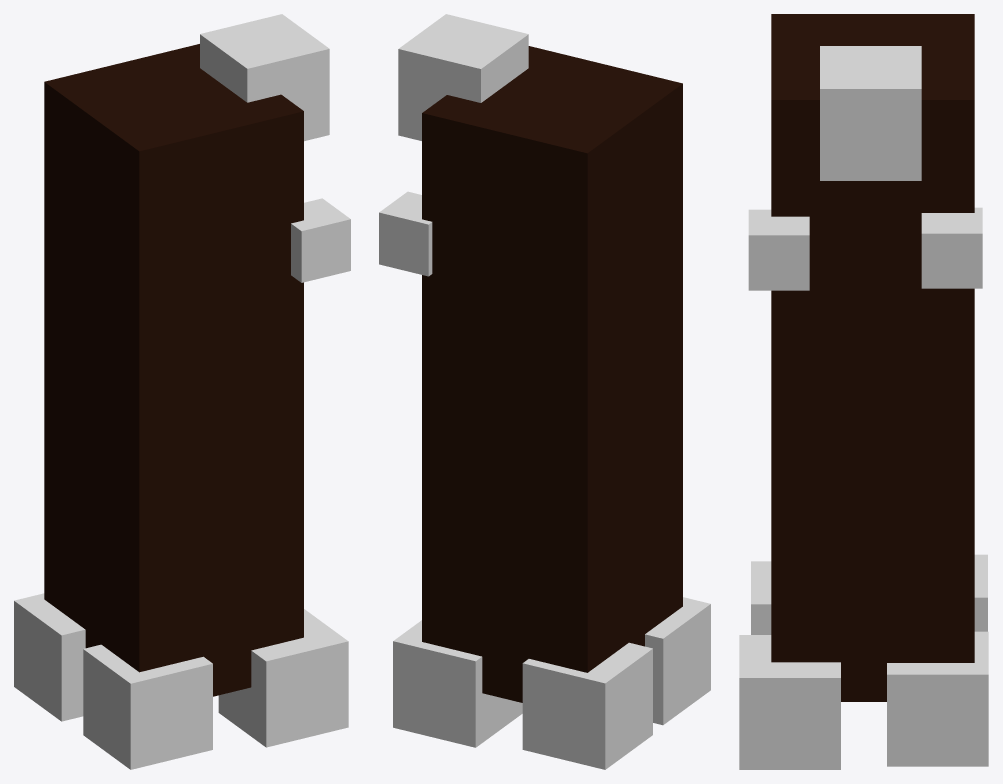
File: big.dae
The picture shows the model from 3 angles, left to right: view 1: azimuth 30°, elevation 25°; view 2: azimuth 150°, elevation 25°; view 3: azimuth 270°, elevation 25°; orthographic projection. The views are drawn at different scales.
Parts seen in each view (by area): view 1: Cube, Cube.005, Cube.002, Cube.001, Cube.004, Cube.007; view 2: Cube, Cube.004, Cube.001, Cube.003, Cube.005, Cube.006; view 3: Cube, Cube.001, Cube.002, Cube.003, Cube.007, Cube.006, Cube.005, Cube.004.
Part boxes in pixels (x1,y1,x2,y2): Cube: [44, 44, 303, 696]; Cube.005: [83, 644, 212, 769]; Cube.002: [218, 609, 348, 747]; Cube.001: [200, 14, 329, 141]; Cube.004: [14, 593, 85, 721]; Cube.007: [291, 198, 350, 282]; Cube: [422, 46, 682, 702]; Cube.004: [522, 642, 652, 769]; Cube.001: [398, 14, 528, 140]; Cube.003: [393, 620, 522, 747]; Cube.005: [645, 597, 710, 725]; Cube.006: [379, 191, 432, 276]; Cube: [771, 14, 974, 701]; Cube.001: [820, 46, 921, 180]; Cube.002: [739, 635, 840, 769]; Cube.003: [887, 631, 988, 766]; Cube.007: [748, 209, 809, 290]; Cube.006: [921, 207, 982, 288]; Cube.005: [751, 561, 771, 634]; Cube.004: [974, 554, 987, 631].
Bounding box in the file's own units: 2.88 × 2.45 × 7.5.
